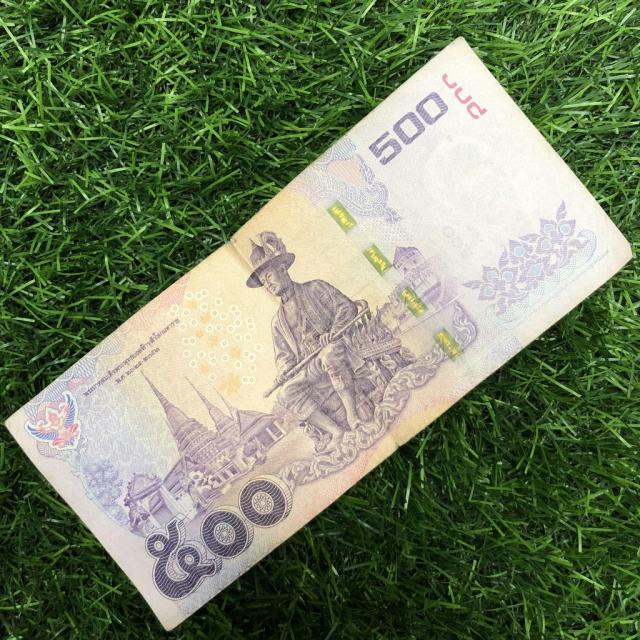THAI500: (6, 38, 632, 633)
